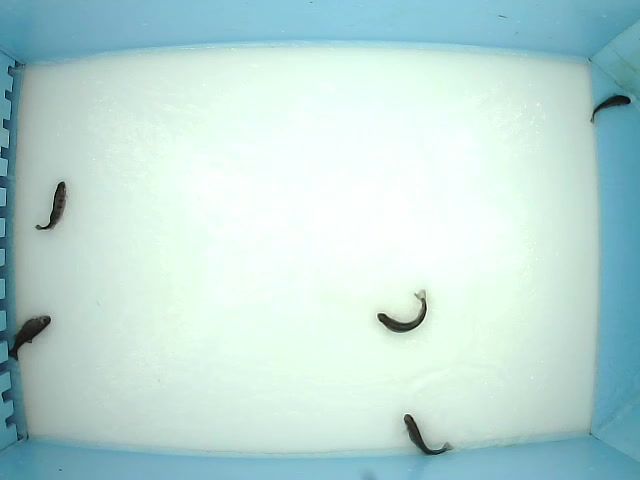fish: (400, 412, 456, 457), (375, 288, 428, 334), (6, 314, 51, 361), (33, 180, 70, 232), (589, 90, 632, 125)
